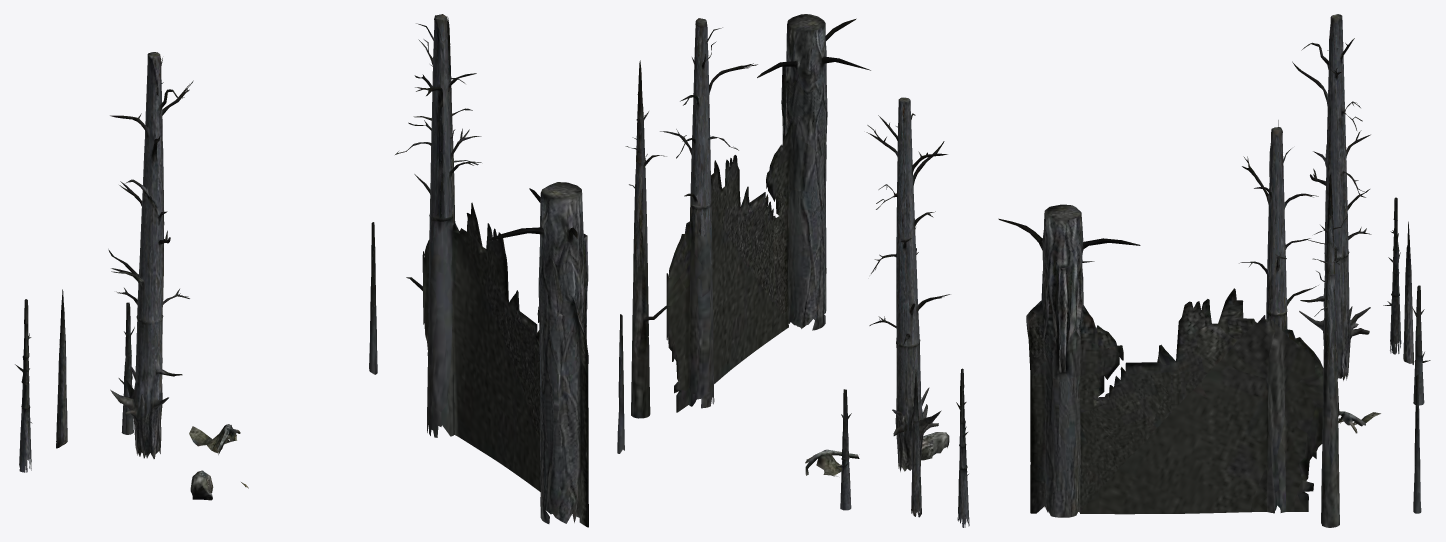
File: tall_tree.glb
The picture shows the model from 3 angles, left to right: view 1: azimuth 30°, elevation 25°; view 2: azimuth 150°, elevation 25°; view 3: azimuth 270°, elevation 25°; orthographic projection. The views are drawn at different scales.
Parts seen in each view (by area): view 1: tripo_node_13514013-2d23-4818-805e-4e161f162b2c; view 2: tripo_node_13514013-2d23-4818-805e-4e161f162b2c; view 3: tripo_node_13514013-2d23-4818-805e-4e161f162b2c.
Boxes of the visible parts, x1=… form: tripo_node_13514013-2d23-4818-805e-4e161f162b2c: x1=15, y1=14, x2=588, y2=527; tripo_node_13514013-2d23-4818-805e-4e161f162b2c: x1=617, y1=14, x2=969, y2=527; tripo_node_13514013-2d23-4818-805e-4e161f162b2c: x1=998, y1=14, x2=1430, y2=527.
Bounding box in the file's own units: 0.9261 × 0.8815 × 0.9138.
Materials: 1 (1 with a texture image).
